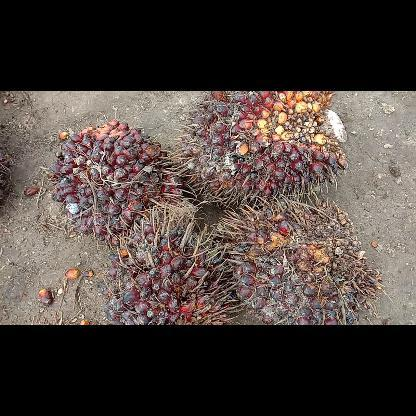TBS masak: (212, 194, 382, 324), (170, 91, 348, 207), (44, 119, 186, 245), (105, 204, 237, 324)
